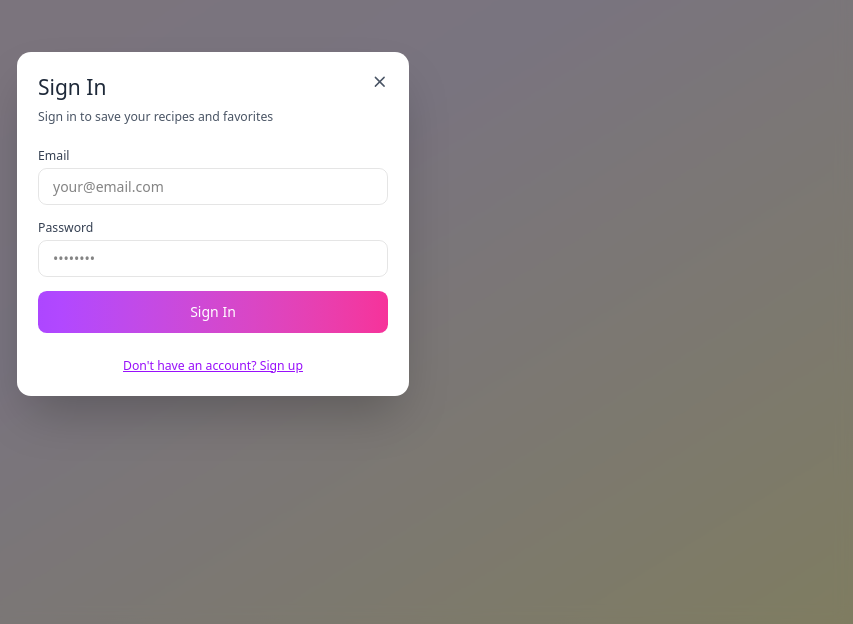
Test: AuthModal › should switch between signin and signup modes
The width and height of the screenshot is (853, 624).
Expected: the heading "Sign In" is shown, [38, 73, 106, 101]
Note: Switch to signup
Click the button "Don't have an account? Sign up".
click(213, 366)  # box [123, 357, 303, 374]
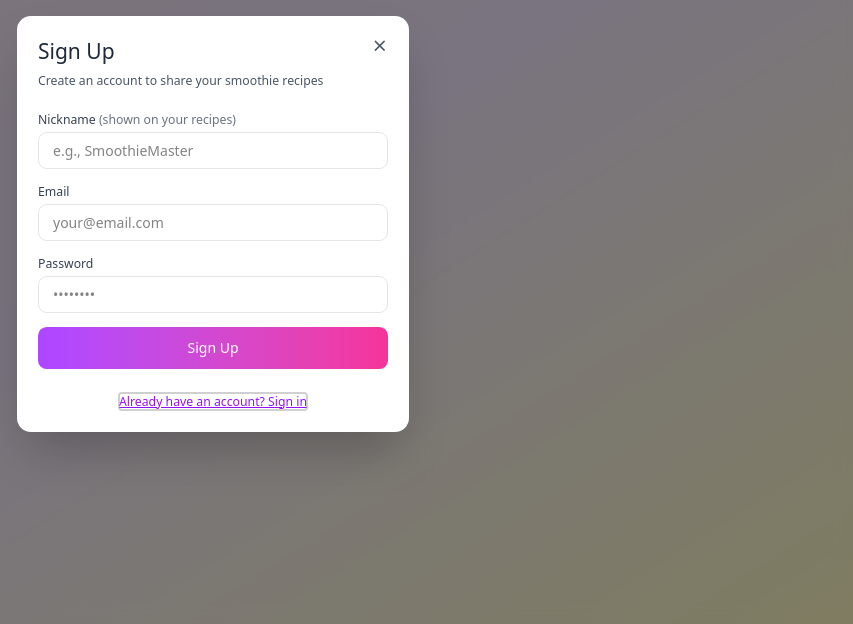
Expected: the heading "Sign Up" is shown, [38, 37, 115, 65]
Expected: the field labelled "Nickname (shown on your recipes)" is shown, [38, 132, 388, 169]
Note: Switch back to signin
Click the button "Already have an account? Sign in".
click(213, 402)  # box [119, 393, 307, 410]
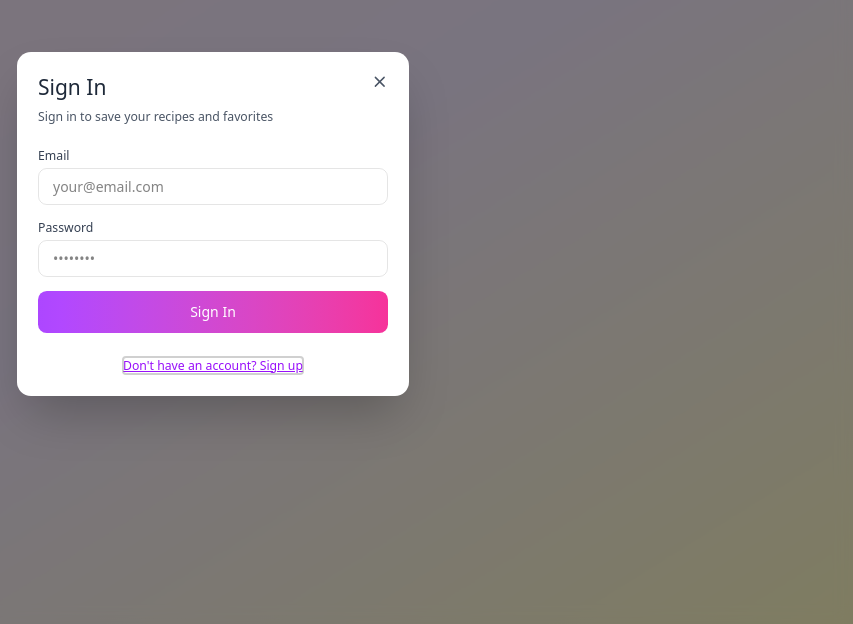
Expected: the heading "Sign In" is shown, [38, 73, 106, 101]
Expected: the label labelled "Nickname" is gone
